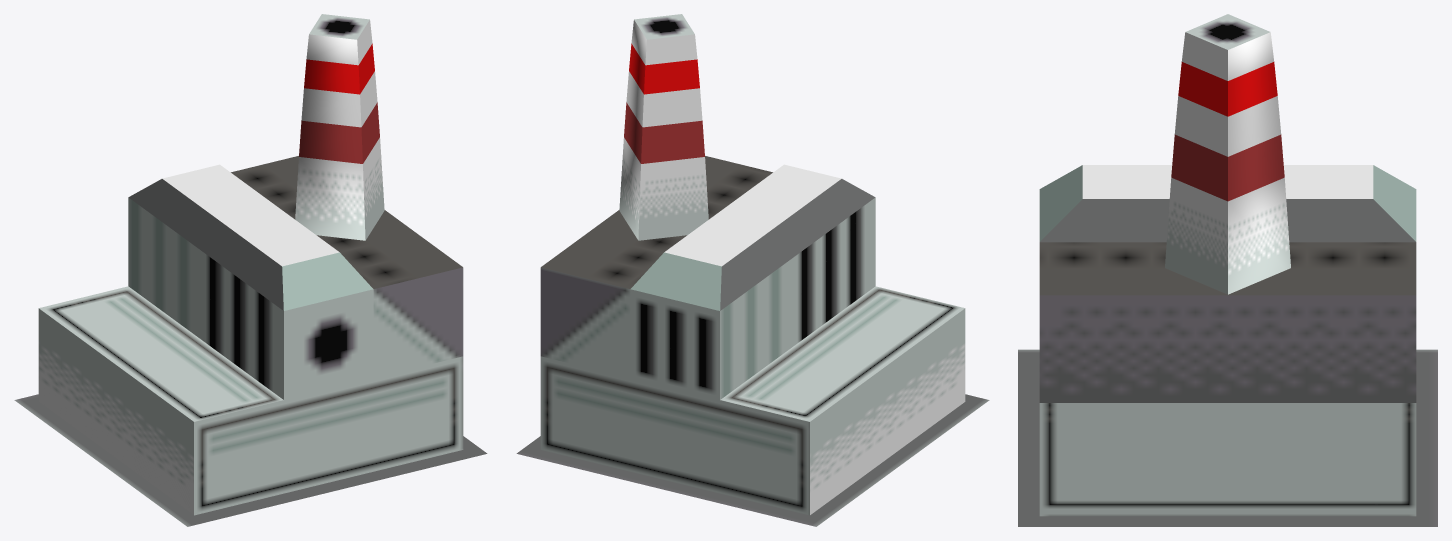
Rendered from BLD_Oil_Refinery_Medium.fbx.
3 renders of one model, left to right at view 1: azimuth 30°, elevation 25°; view 2: azimuth 150°, elevation 25°; view 3: azimuth 270°, elevation 25°, orthographic. The views are drawn at different scales.
Parts seen in each view (by area): view 1: BLD_OilRefinery_Medium; view 2: BLD_OilRefinery_Medium; view 3: BLD_OilRefinery_Medium.
Part boxes in pixels (bbox=[...]): BLD_OilRefinery_Medium: bbox=[14, 14, 487, 526]; BLD_OilRefinery_Medium: bbox=[516, 14, 989, 526]; BLD_OilRefinery_Medium: bbox=[1018, 14, 1437, 526].
Bounding box in the file's own units: 801 × 801 × 965.
